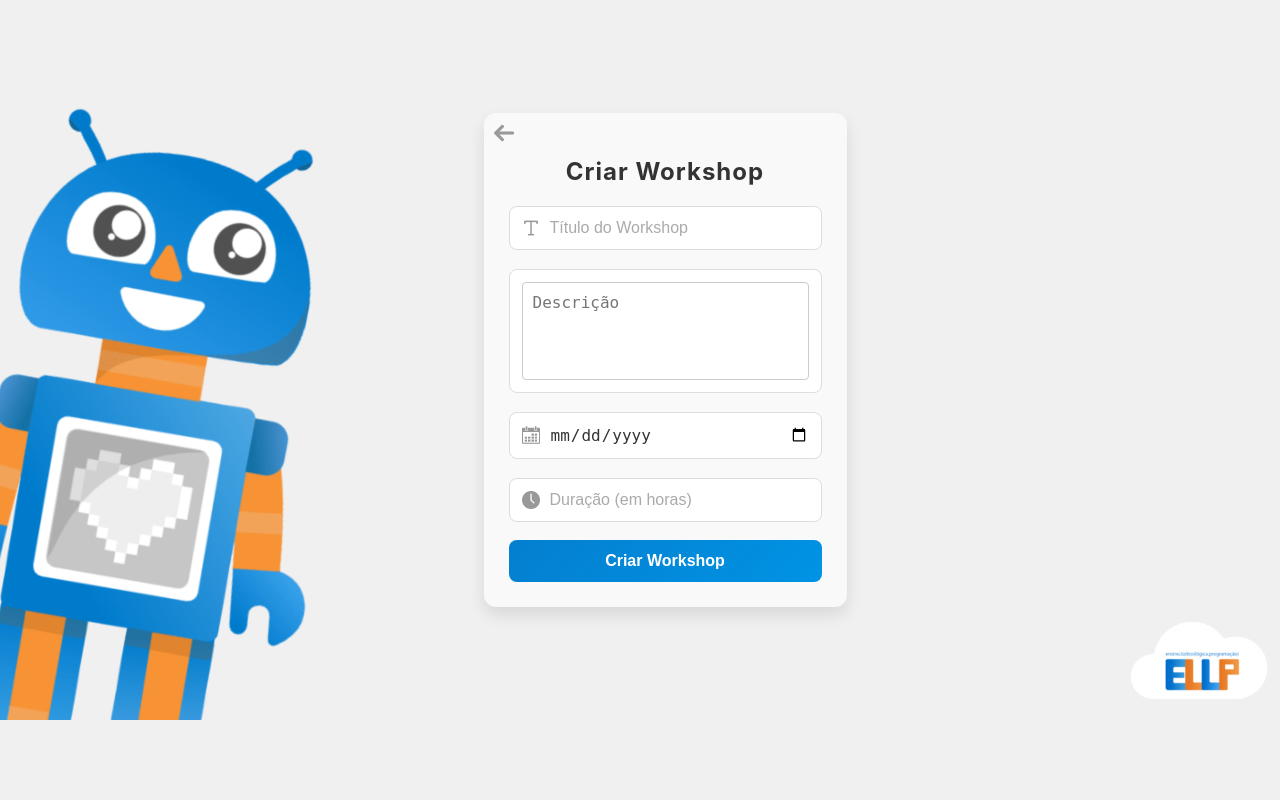
Test: Testes de Cadastro de Workshop › Deve exibir mensagem de erro se a data for no passado
# Preenche os campos com uma data no passado
In the field with placeholder "Título do Workshop": (680, 228) [550,219,809,237], type "Workshop com data no passado"
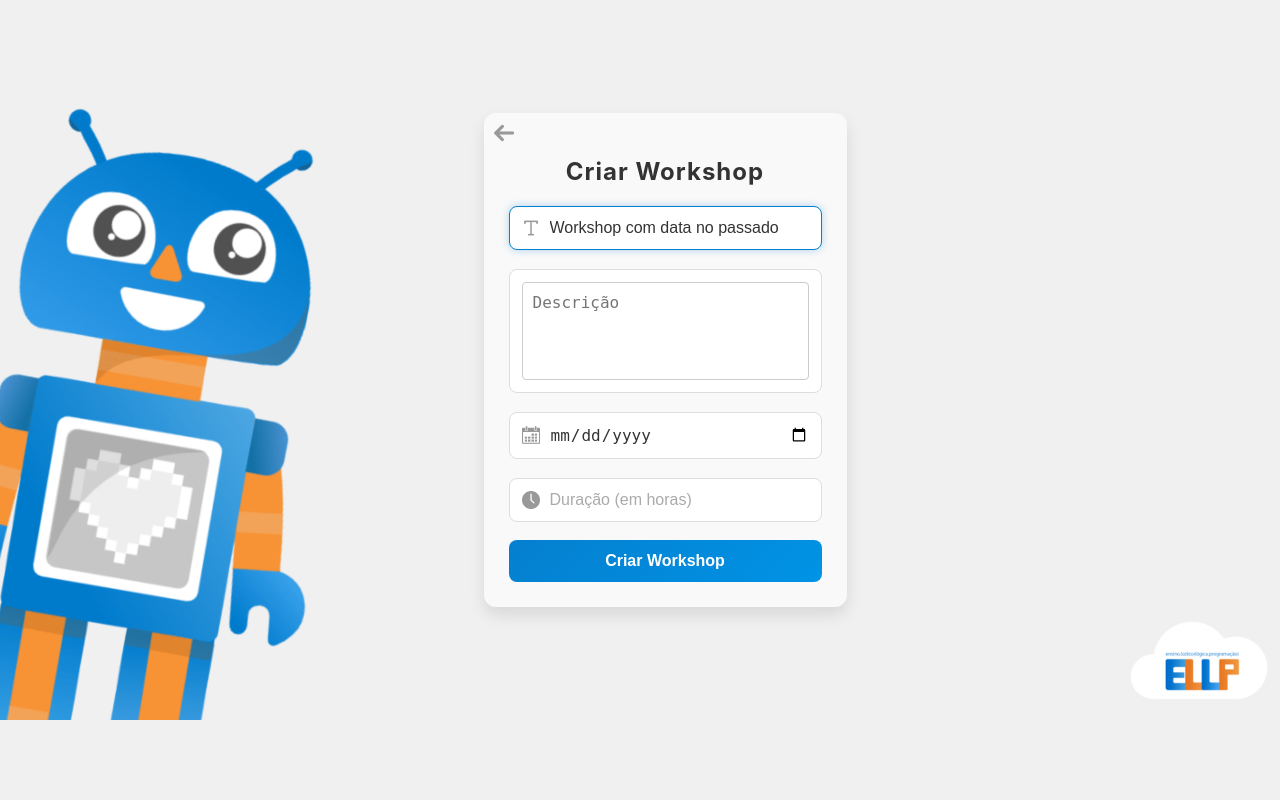
In the text box with placeholder "Descrição": (666, 331) [522,282,809,380], type "Este workshop tem uma data inválida."
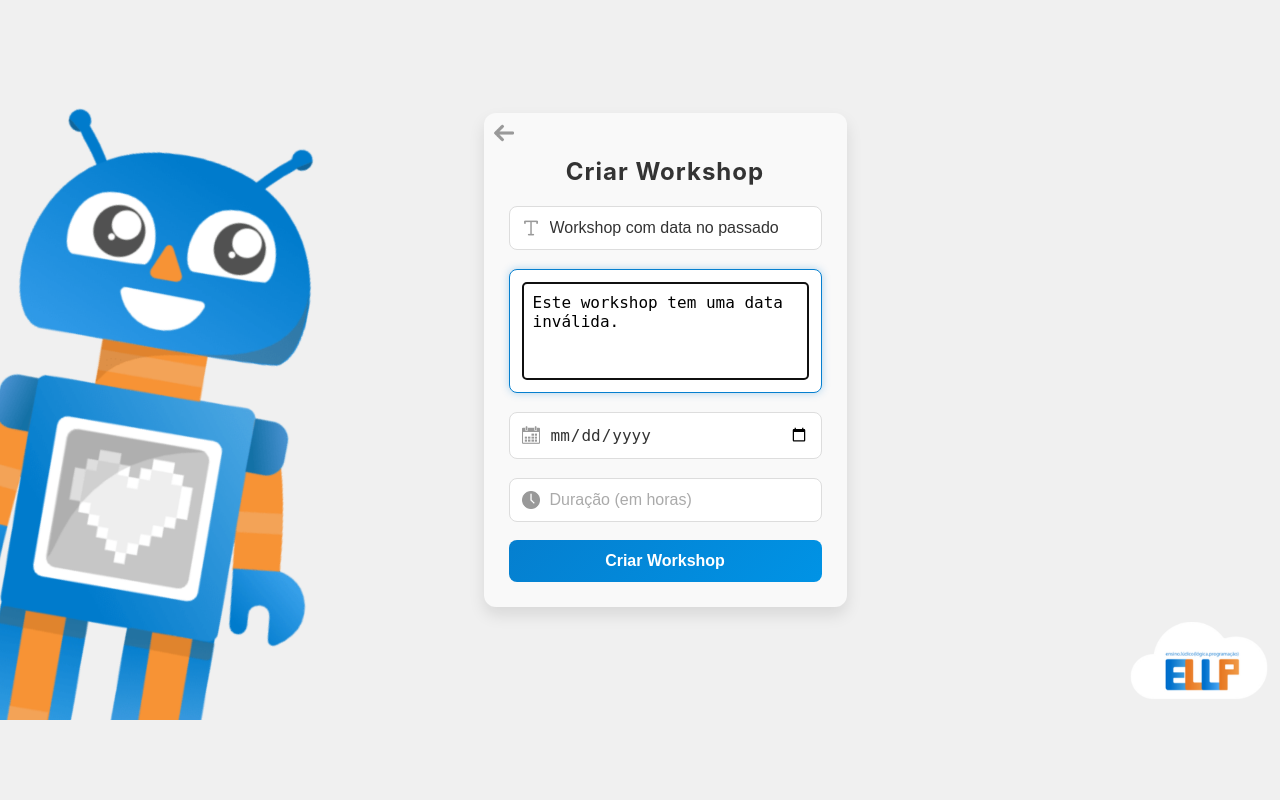
In the date field with placeholder "Data do Workshop": (680, 436) [550,425,809,446], type "2020-12-31"
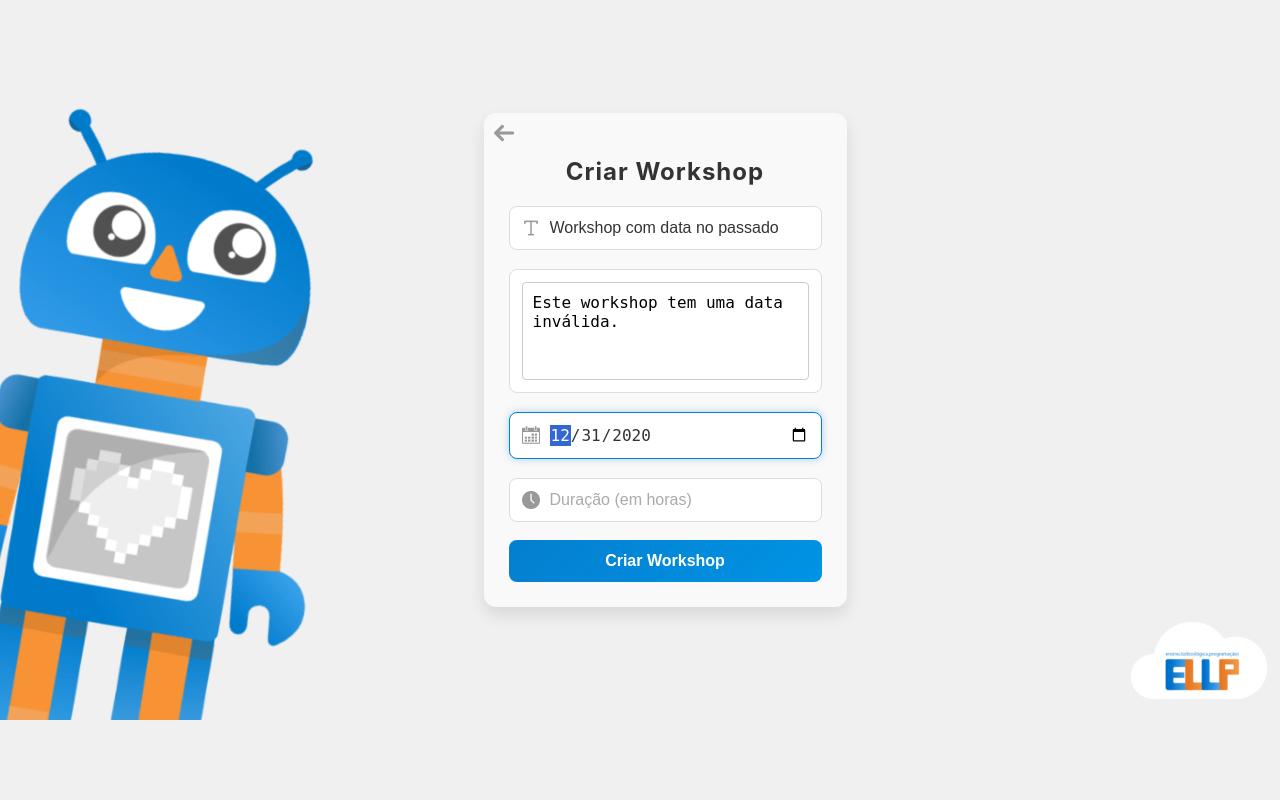
In the field with placeholder "Duração (em horas)": (680, 500) [550,491,809,509], type "2"
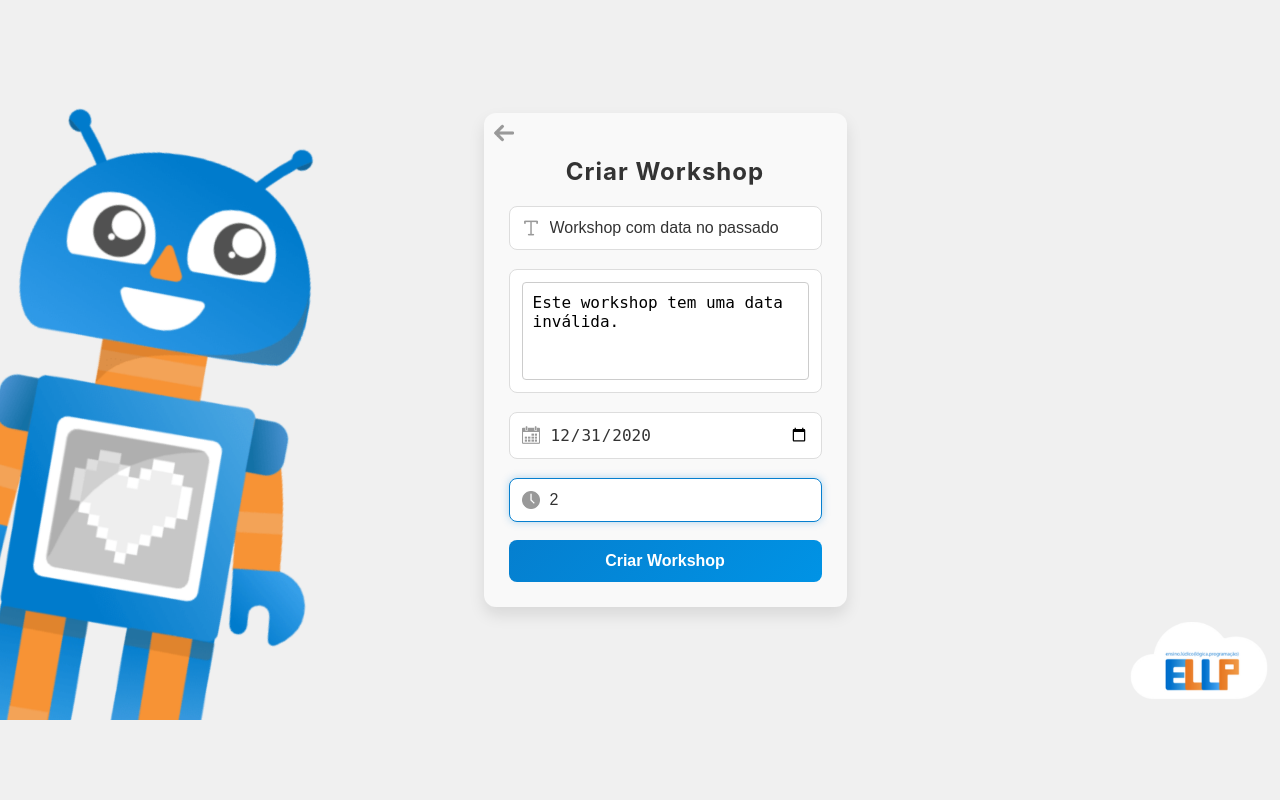
# Clica no botão de envio
Click the submit button: (666, 562) [509,541,822,583]
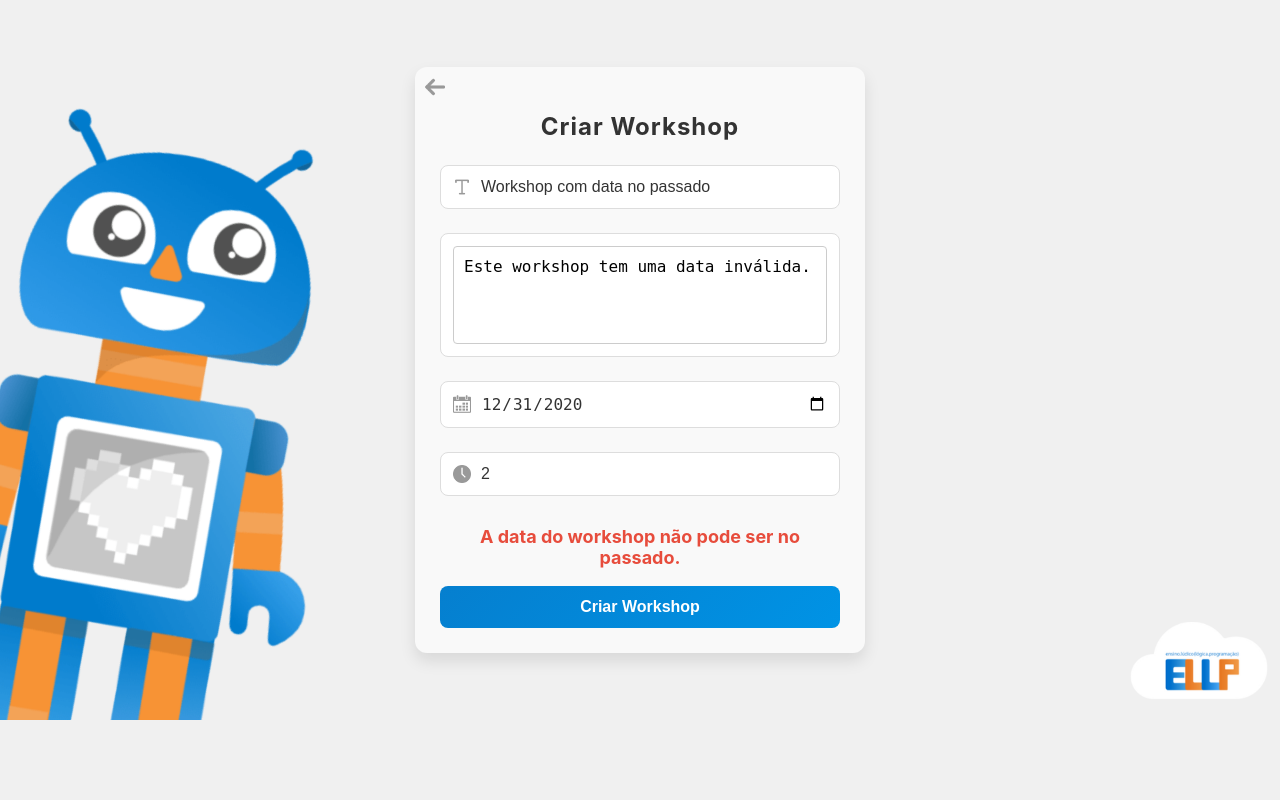
Check: the text "A data do workshop não pode ser no passado." is shown, box [480,526,800,568]
